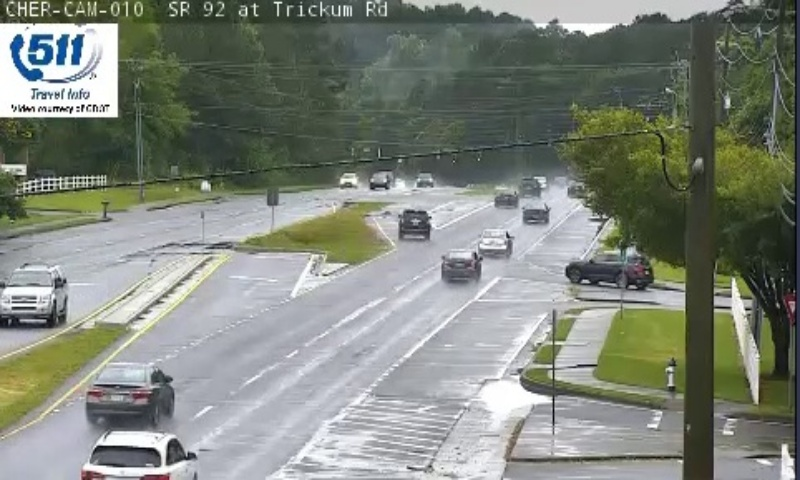car: (81, 431, 197, 480), (86, 362, 172, 416), (441, 250, 479, 279), (479, 227, 511, 256), (398, 211, 429, 238), (521, 202, 547, 220)
